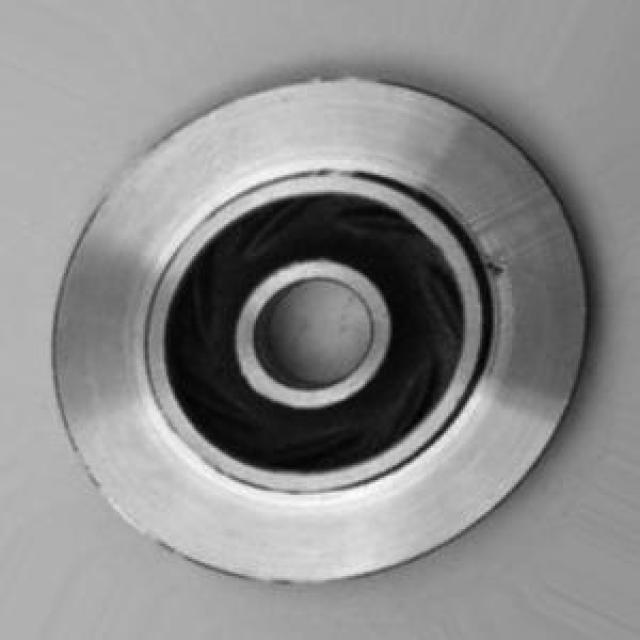Defect: (477, 248, 526, 290)
